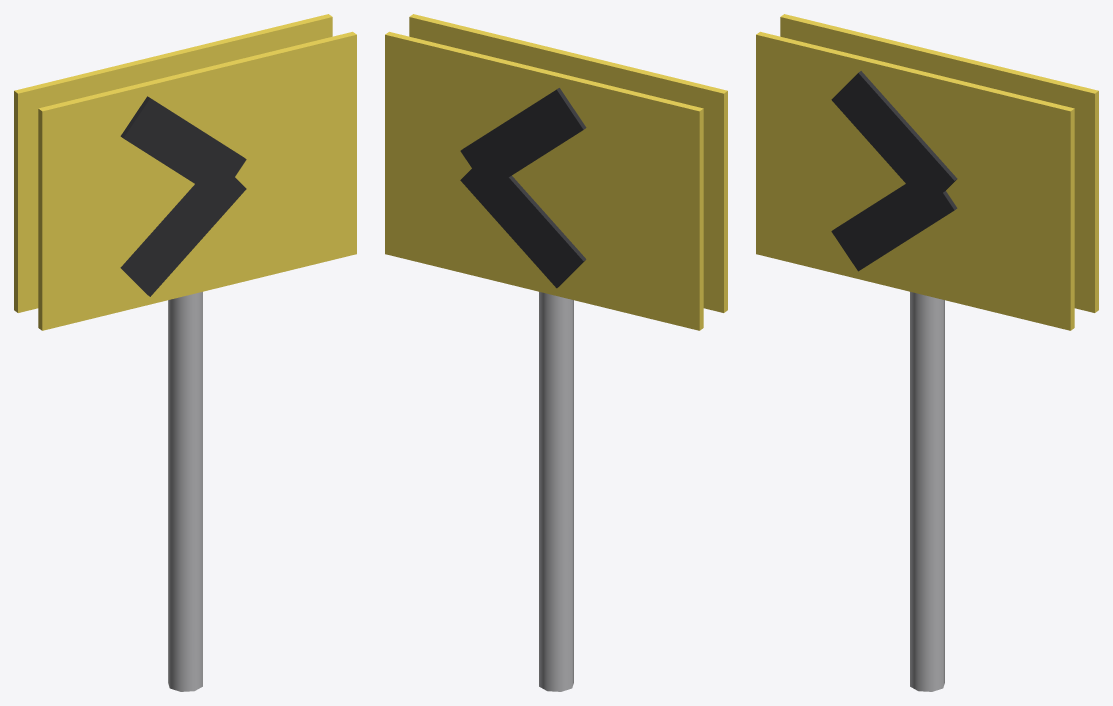
The model's file is sign_chevron.glb.
3 views of the same model, side by side, from view 1: azimuth 30°, elevation 25°; view 2: azimuth 150°, elevation 25°; view 3: azimuth 330°, elevation 25° (orthographic).
Visible parts, largest first — view 1: sign_chevron; view 2: sign_chevron; view 3: sign_chevron.
Boxes of the visible parts, x1,y1,x2,y2 form: sign_chevron: (14, 14, 356, 691); sign_chevron: (385, 14, 727, 691); sign_chevron: (756, 14, 1098, 691).
Size of the model in its own units: 0.9 by 1.7 by 0.169.
